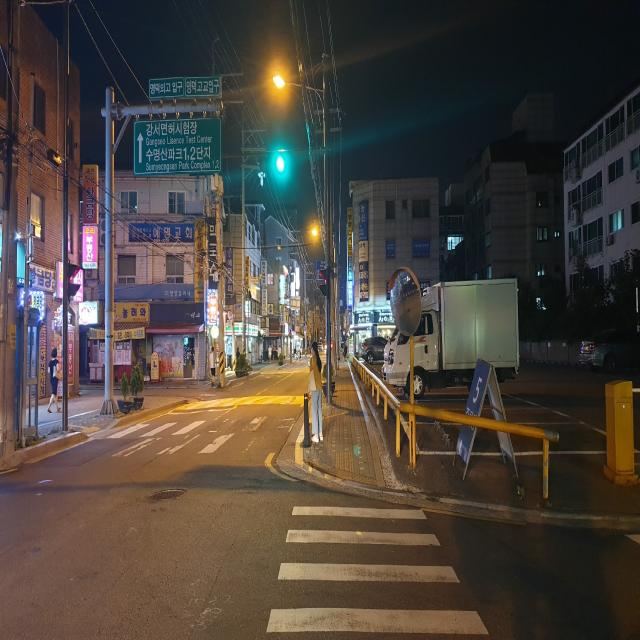횡단보도: (266, 502, 490, 638), (90, 408, 298, 473)
